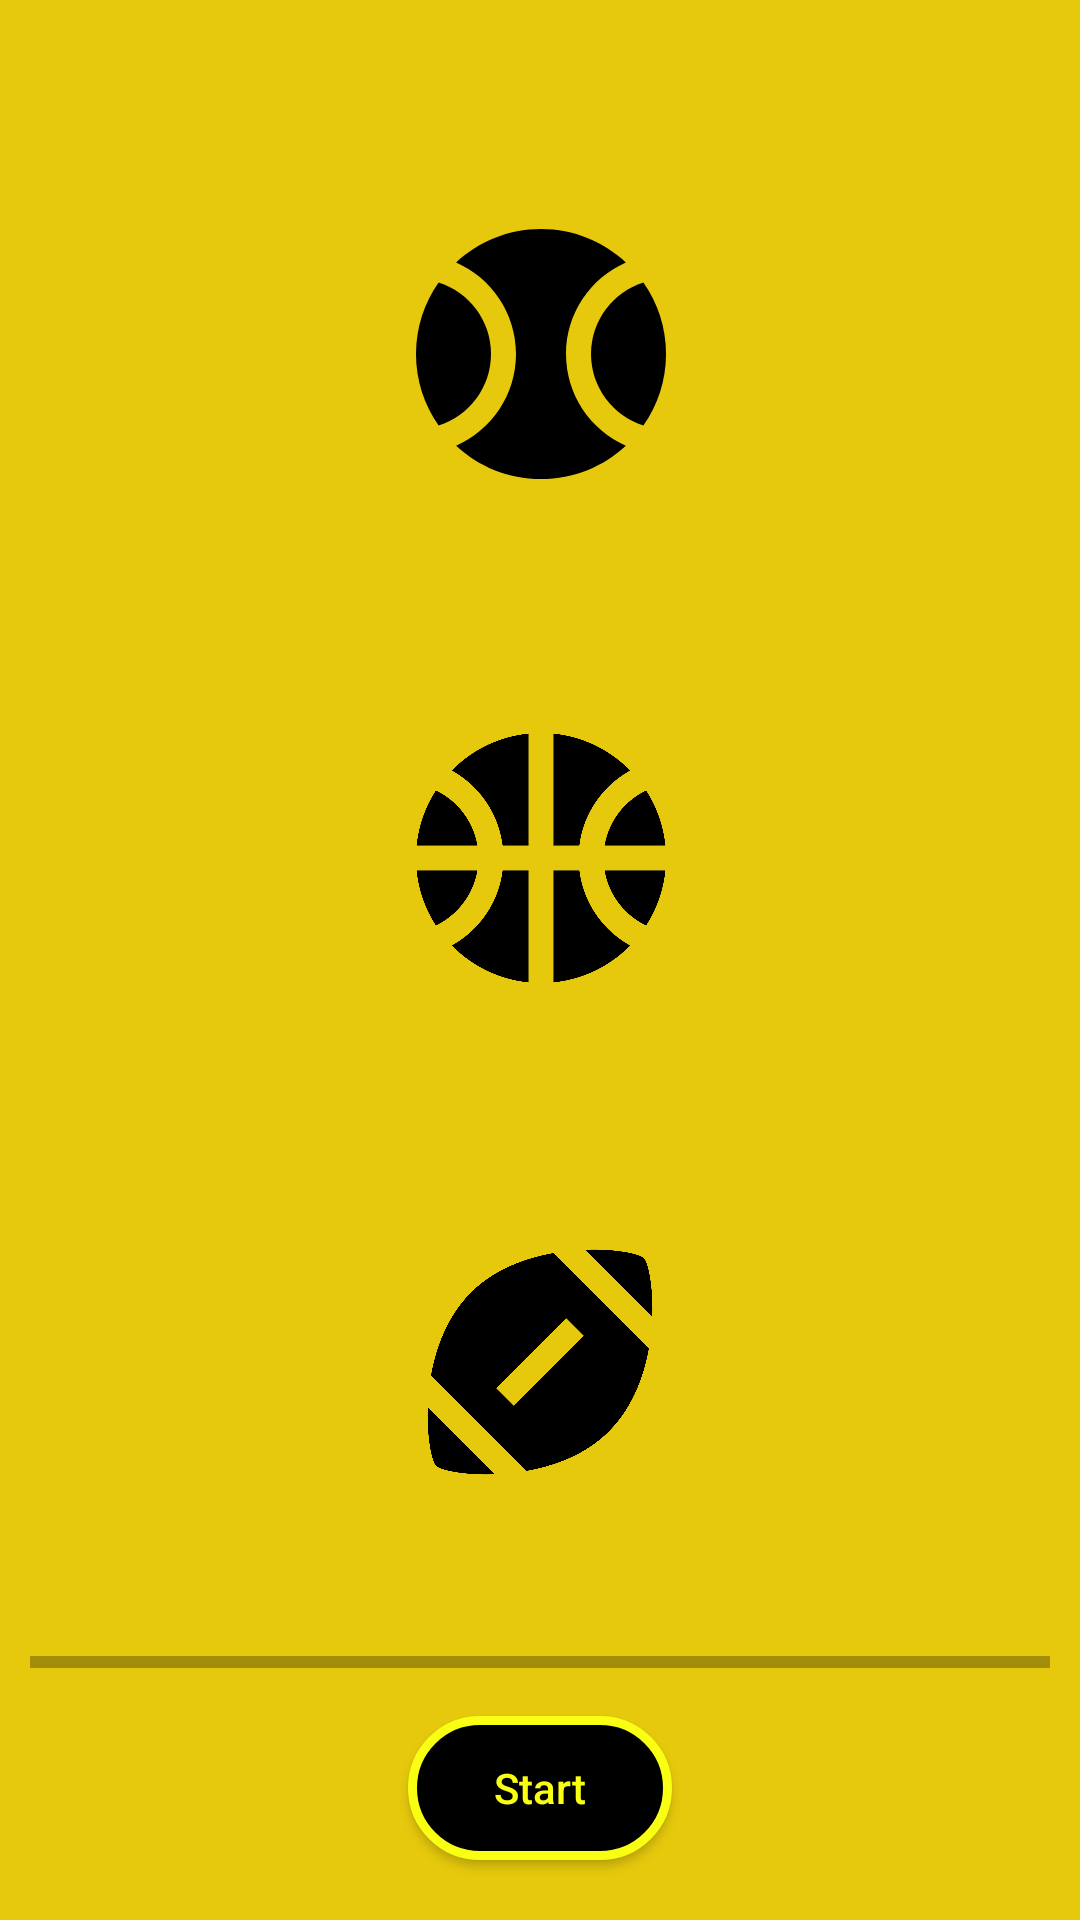

Screen size 1080x1920. Icon name, then its box in pixels as (x1, y1, x2, y2):
basketball ball: (417, 734, 665, 982)
football ball: (428, 1249, 652, 1475)
